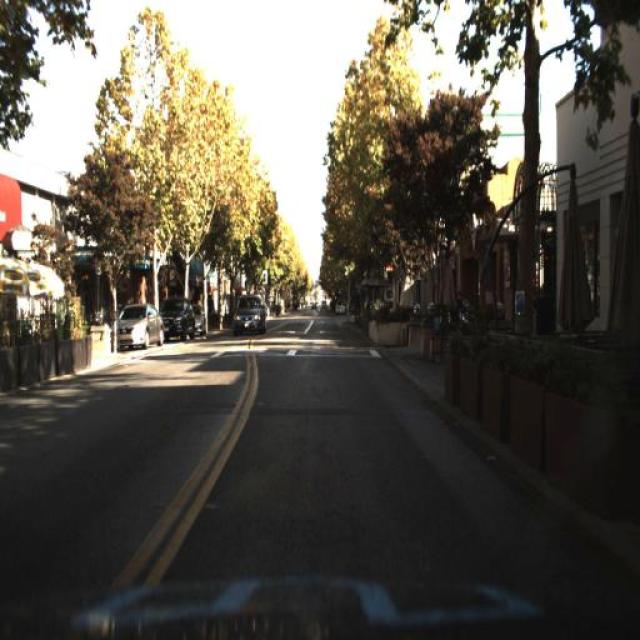car: (110, 302, 168, 346), (112, 302, 163, 352), (157, 294, 194, 344), (232, 292, 267, 337), (162, 296, 194, 343), (230, 296, 264, 336)
